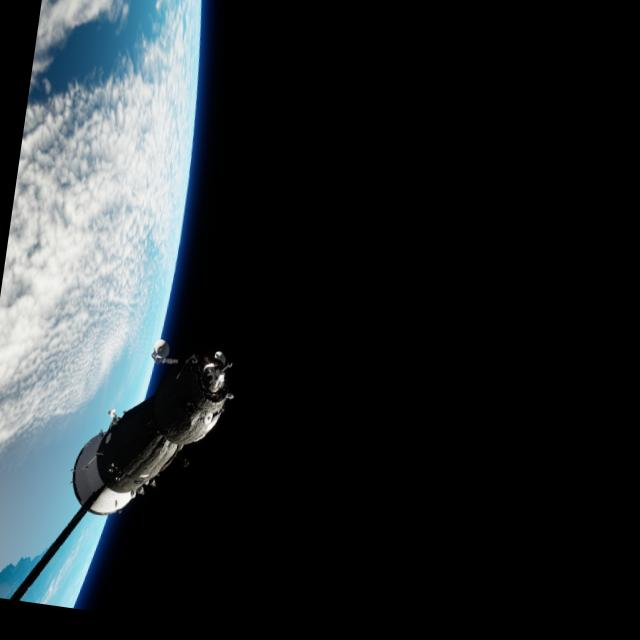Satellites revolving around earth: (64, 326, 242, 534)
